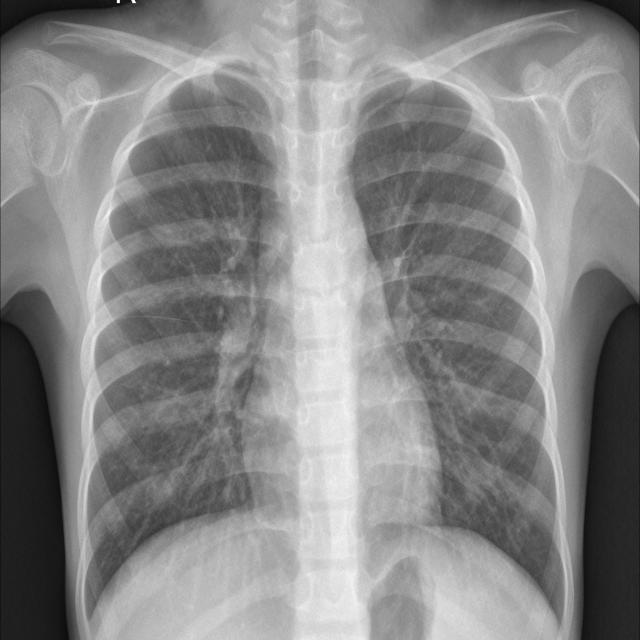no-pneumonia: (352, 76, 571, 622), (85, 73, 282, 614)
